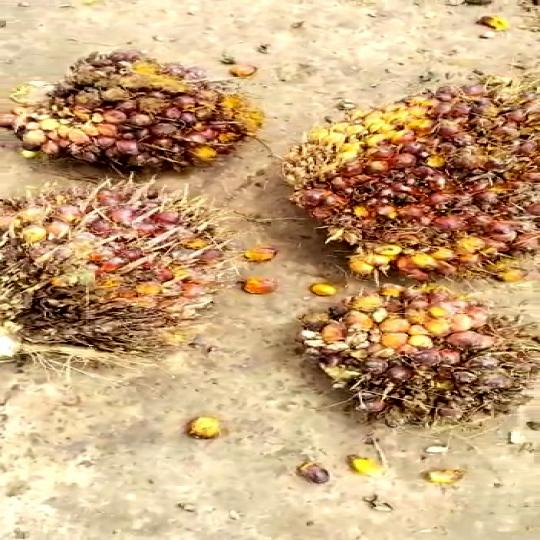masak: (275, 69, 540, 291), (0, 181, 215, 378), (0, 35, 262, 186), (286, 280, 540, 435)
